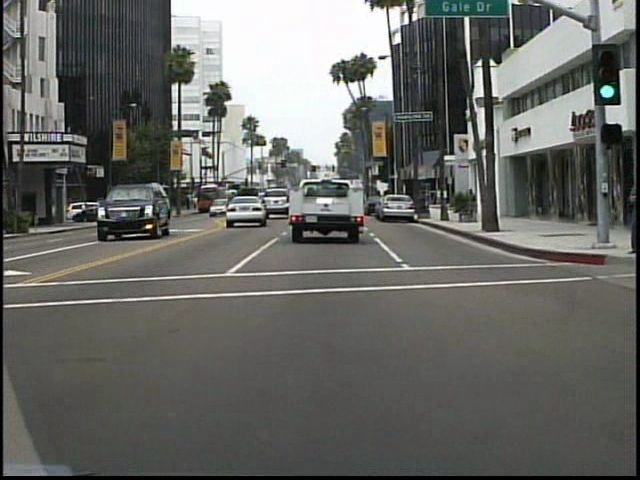person: (620, 165, 638, 257), (462, 184, 479, 219)
